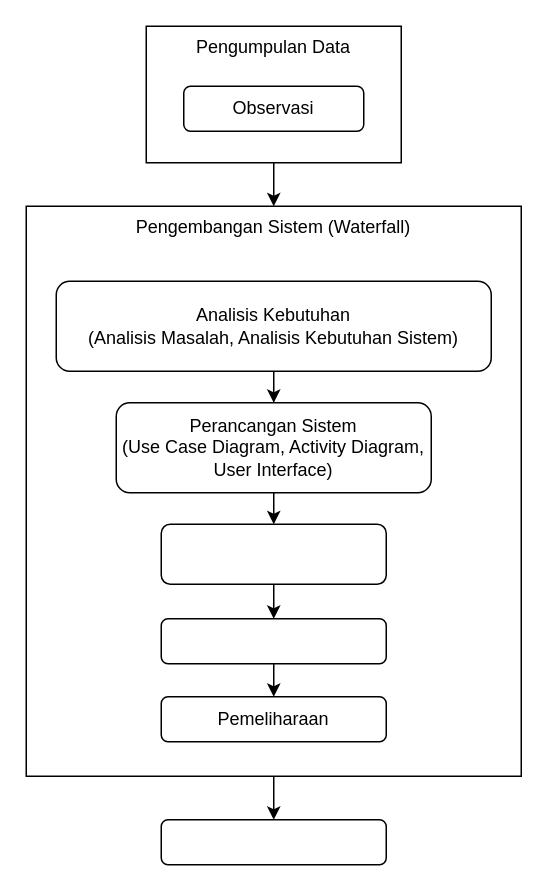
This 548x891 diagram has some shape labels left out. Each missing label, with the centre of its shape:
"Implementasi Sistem (Implementasi Database)" goes at point (273, 553).
"Kesimpulan dan Saran" goes at point (273, 841).
"Pengujian Sistem" goes at point (273, 640).
